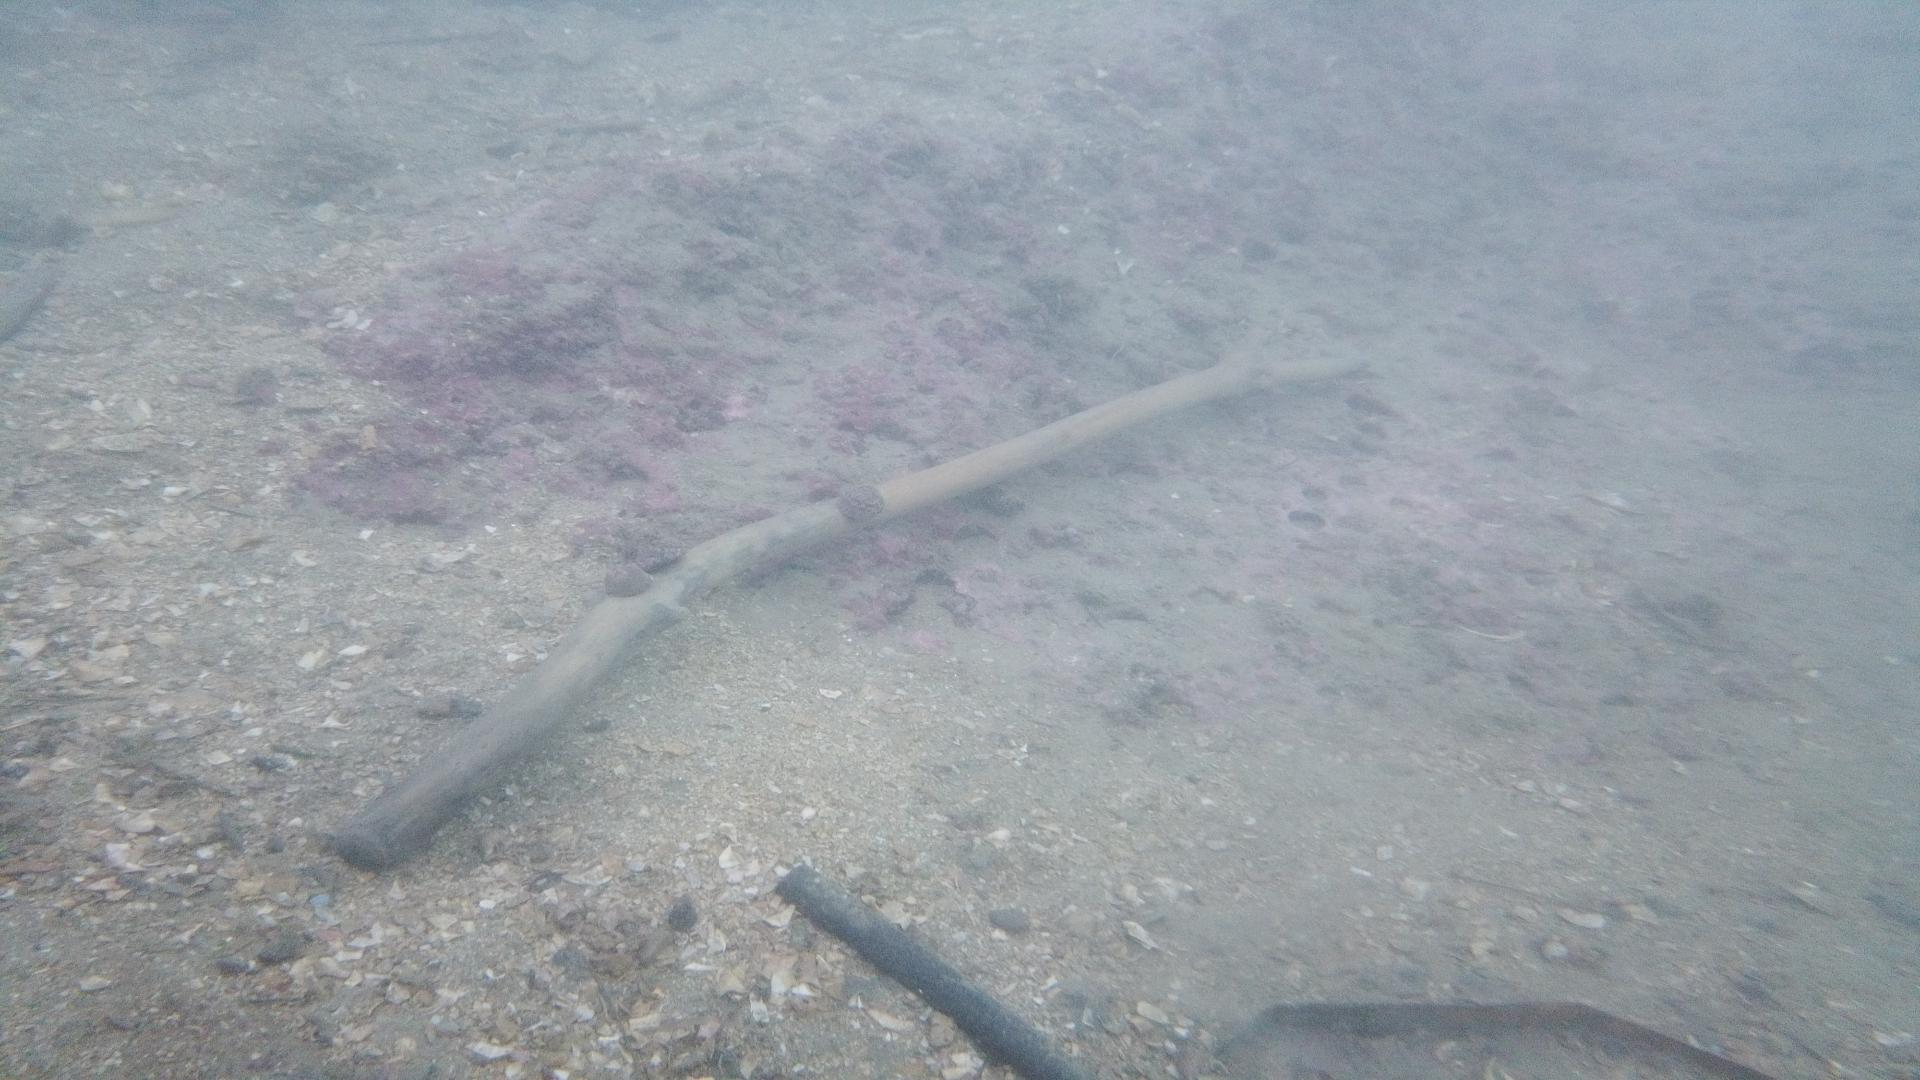wood: (328, 348, 1364, 872)
